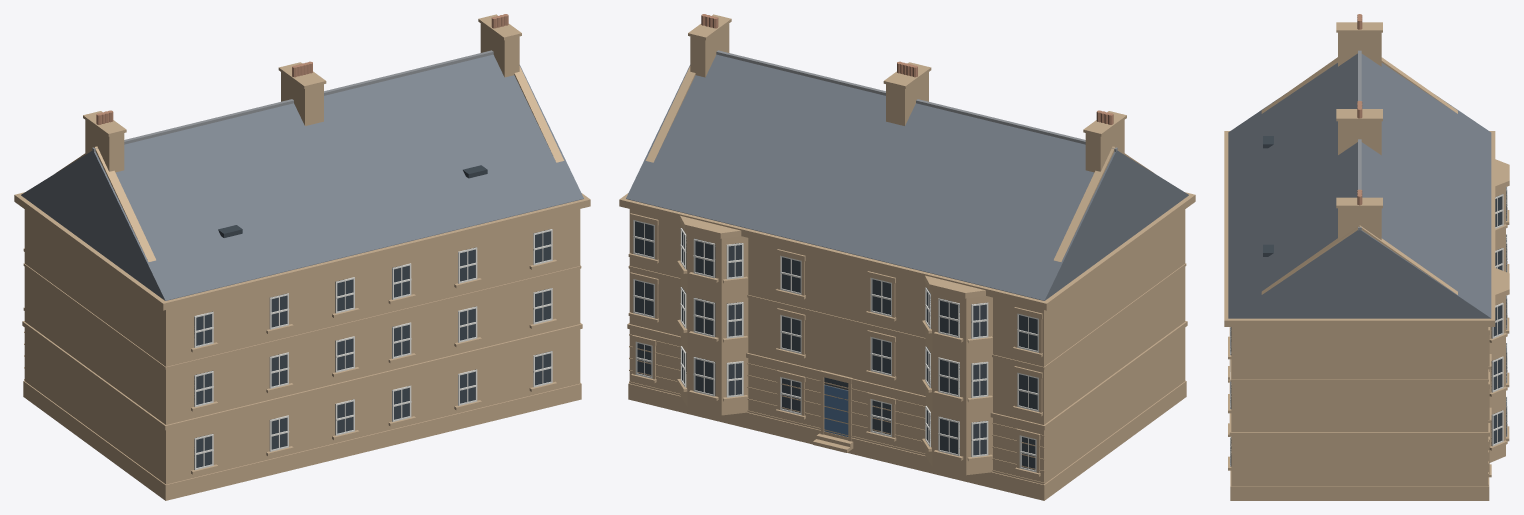
File: tenement3.glb
The picture shows the model from 3 angles, left to right: view 1: azimuth 30°, elevation 25°; view 2: azimuth 150°, elevation 25°; view 3: azimuth 270°, elevation 25°; orthographic projection. The views are drawn at different scales.
Parts seen in each view (by area): view 1: tenement3; view 2: tenement3; view 3: tenement3.
Part boxes in pixels (box(x1,y1,x2,y2)): tenement3: box(14, 14, 590, 500); tenement3: box(619, 14, 1195, 500); tenement3: box(1224, 14, 1509, 500).
Size of the model in its own units: 22.7 by 16.92 by 14.43.
